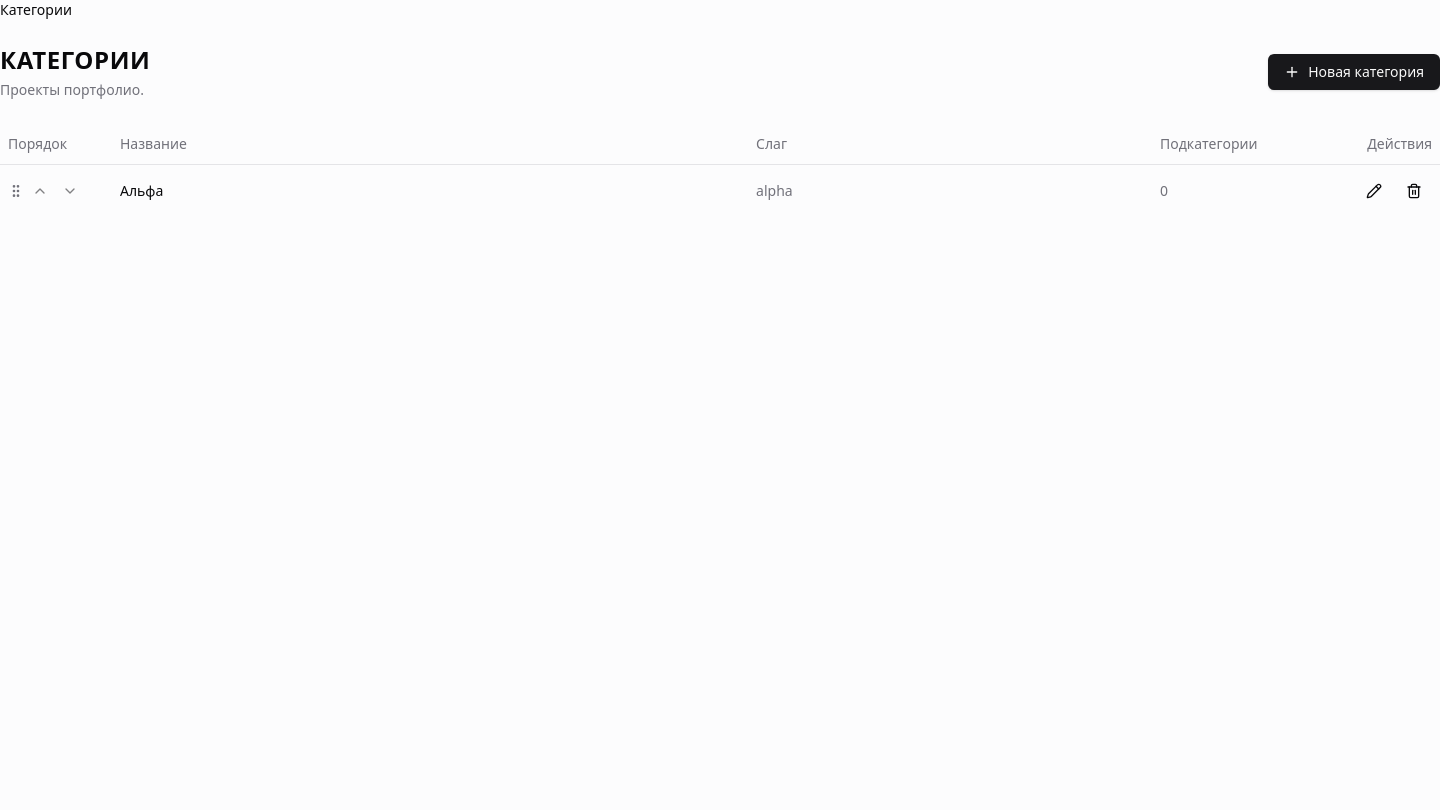
Test case: CategoriesPage › редактирование: форма догружает деталь и показывает контентные поля раздела
The width and height of the screenshot is (1440, 810).
Expected: the link "Альфа" is shown, [120,180,163,200]
Click the button named "Редактировать" at (1374, 190), box [1356,172,1392,208]
(page scrolled)
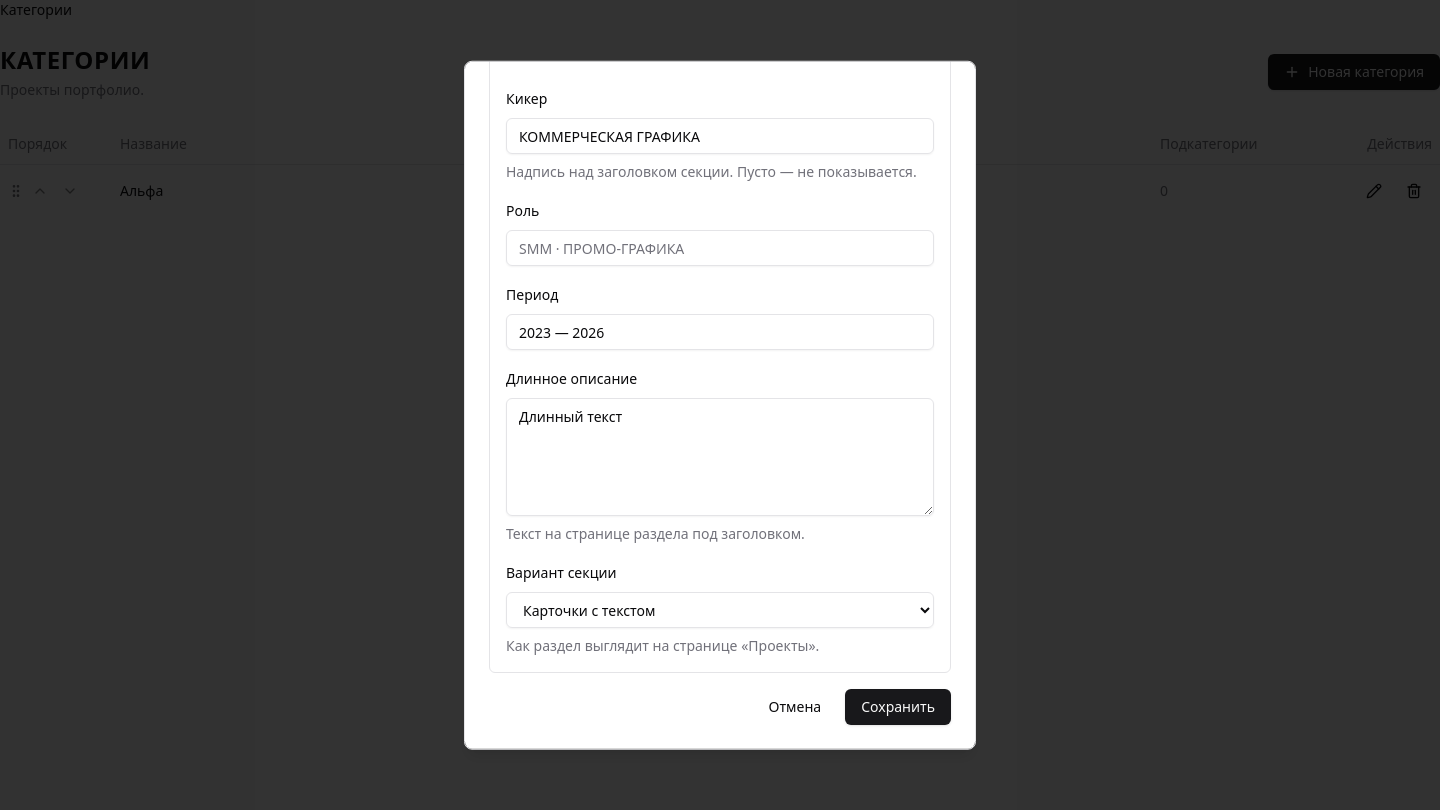
Expected: the field labelled "Кикер" holds "КОММЕРЧЕСКАЯ ГРАФИКА", [506,118,934,154]
Expected: the field labelled "Период" holds "2023 — 2026", [506,314,934,350]
Expected: the text box labelled "Длинное описание" holds "Длинный текст", [506,398,934,516]
